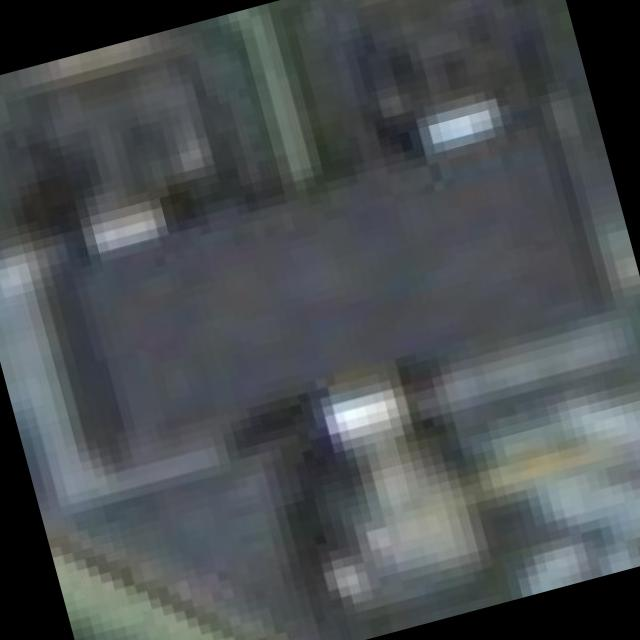transistor: (0, 58, 636, 562)
